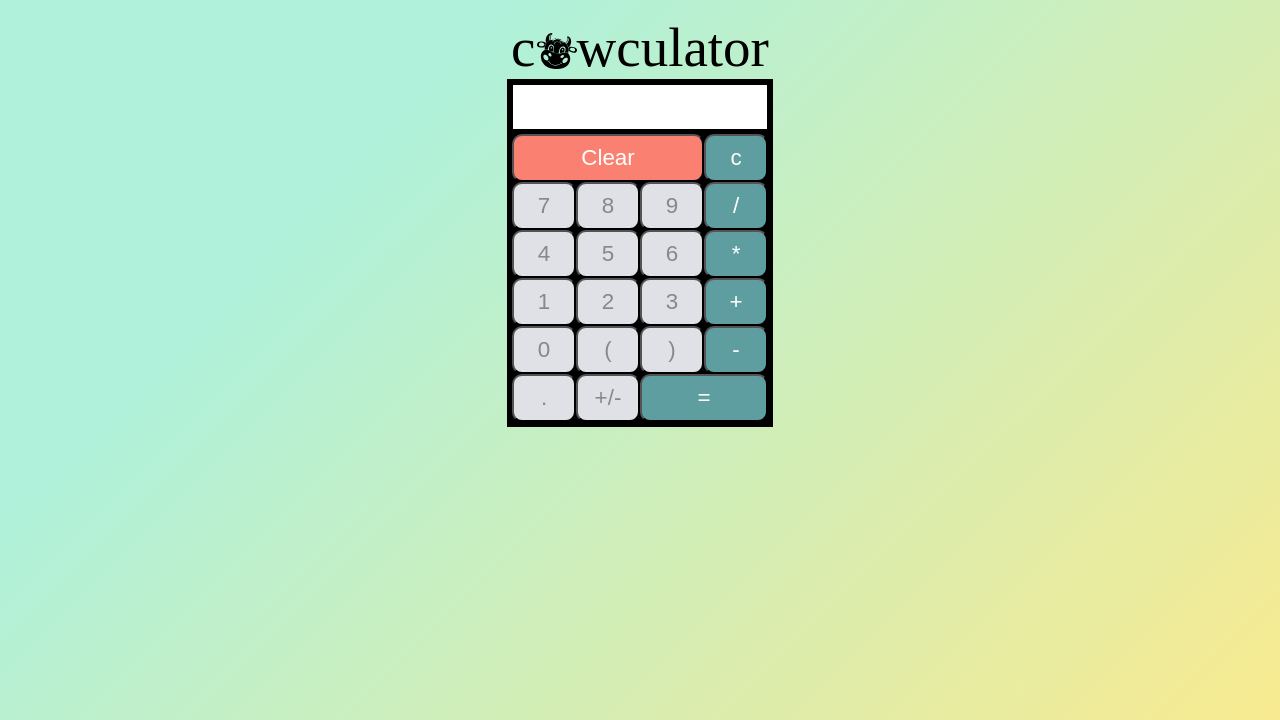
Test: Calculator › should be able to divide whole numbers
Click the button named "1" at (544, 302), box [512,278,576,326]
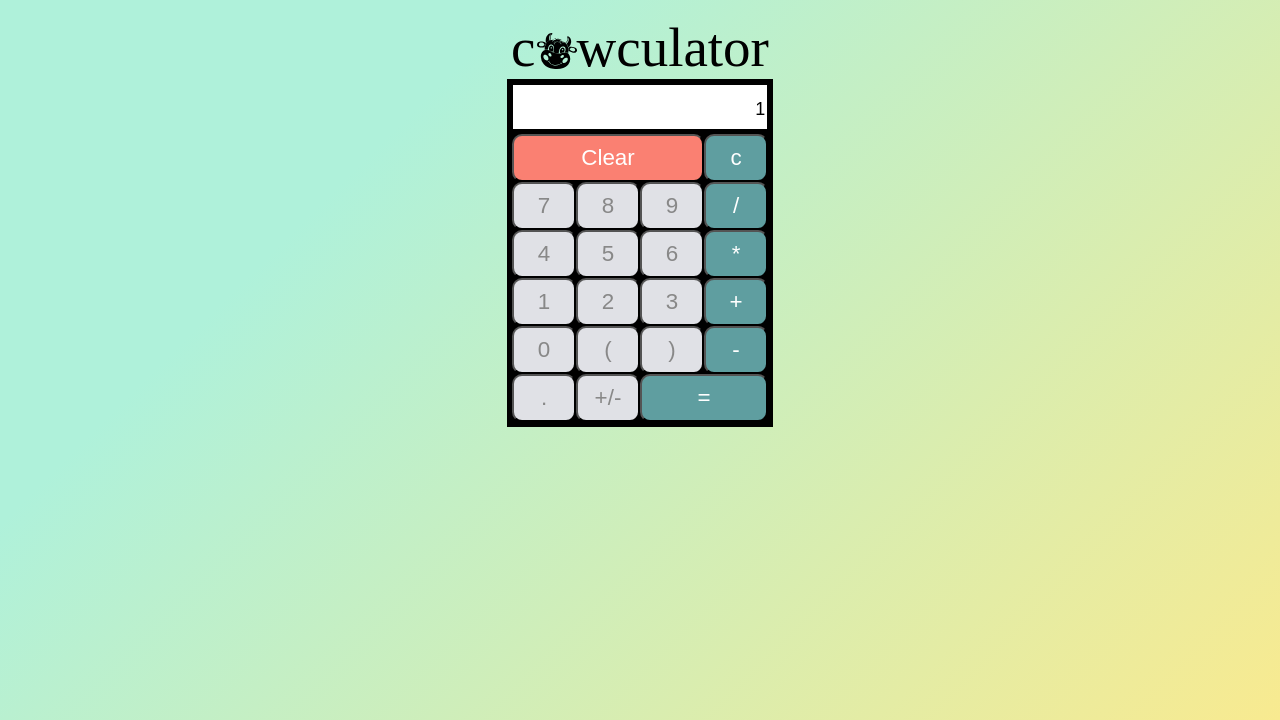
Click the button named "0" at (544, 350), box [512,326,576,374]
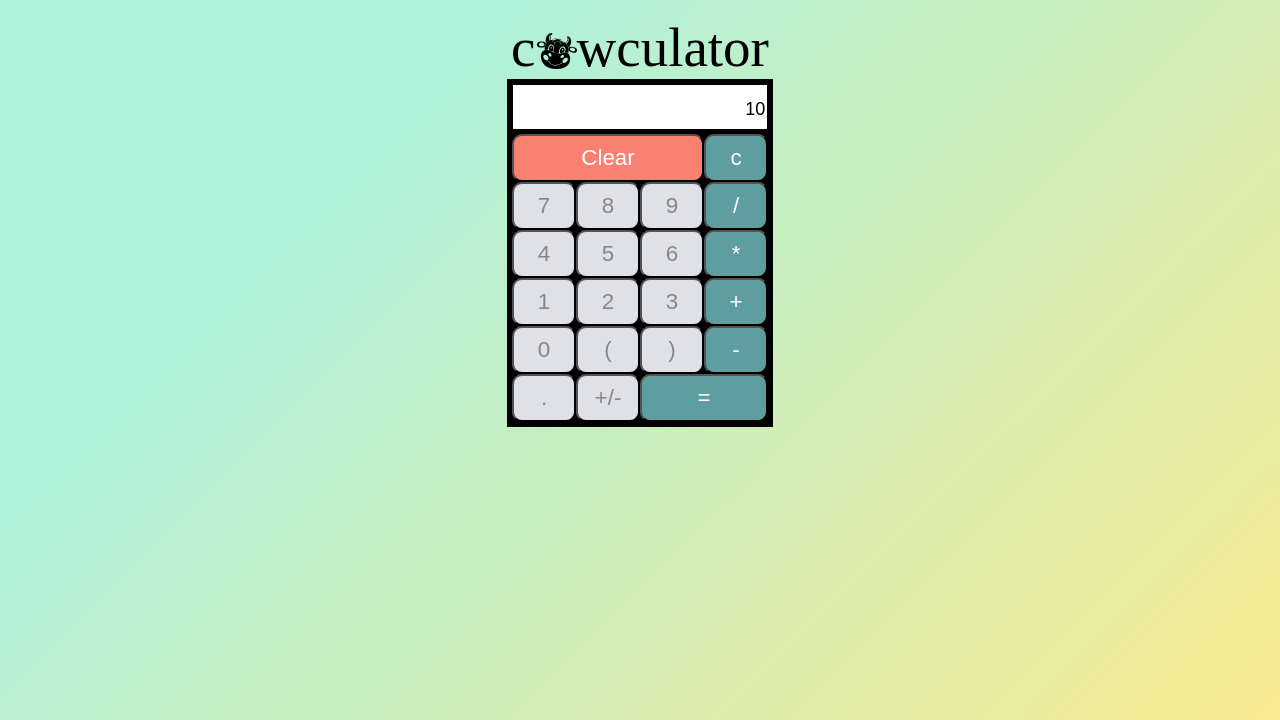
Click the button named "/" at (736, 206), box [704,182,768,230]
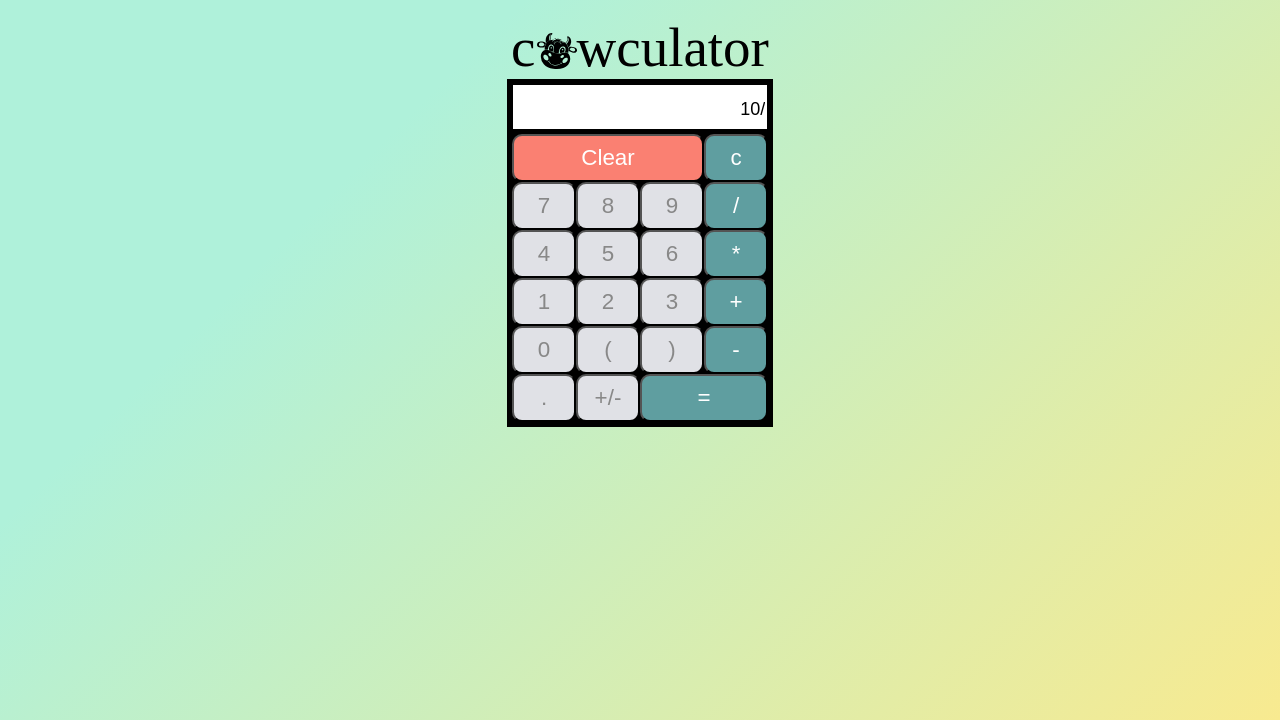
Click the button named "2" at (608, 302), box [576,278,640,326]
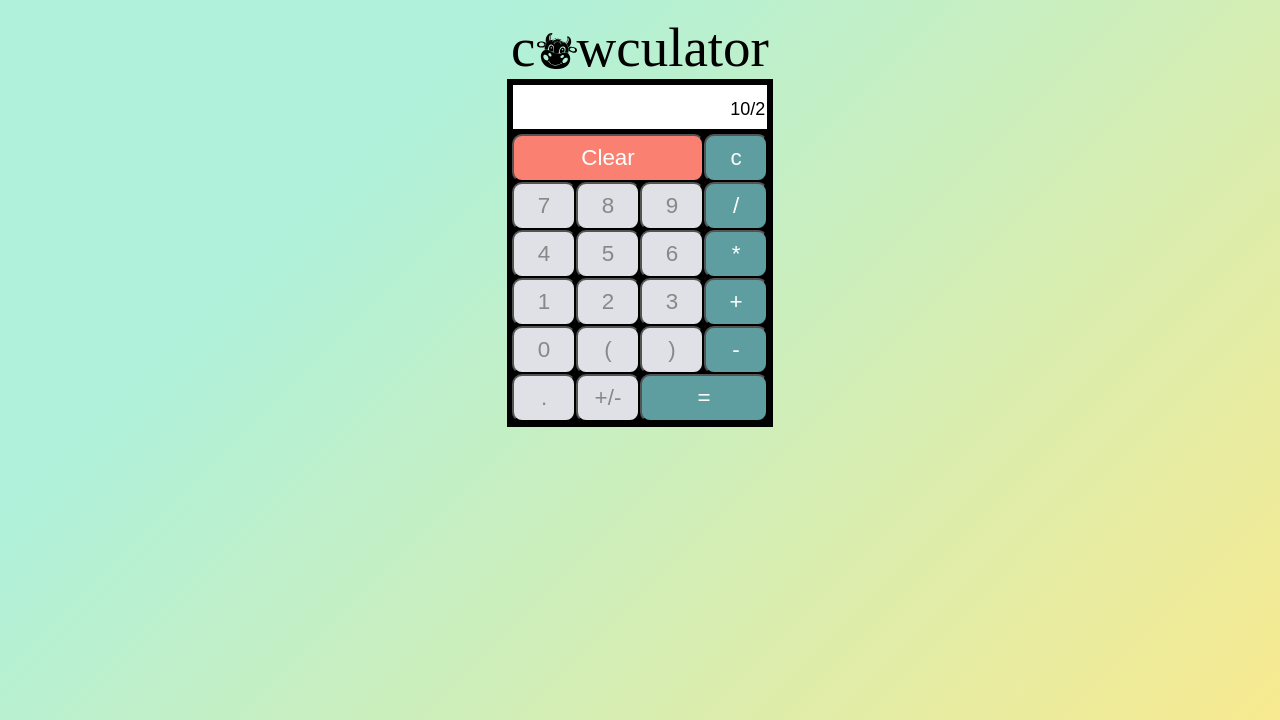
Click the button named "=" at (704, 398), box [640,374,768,422]
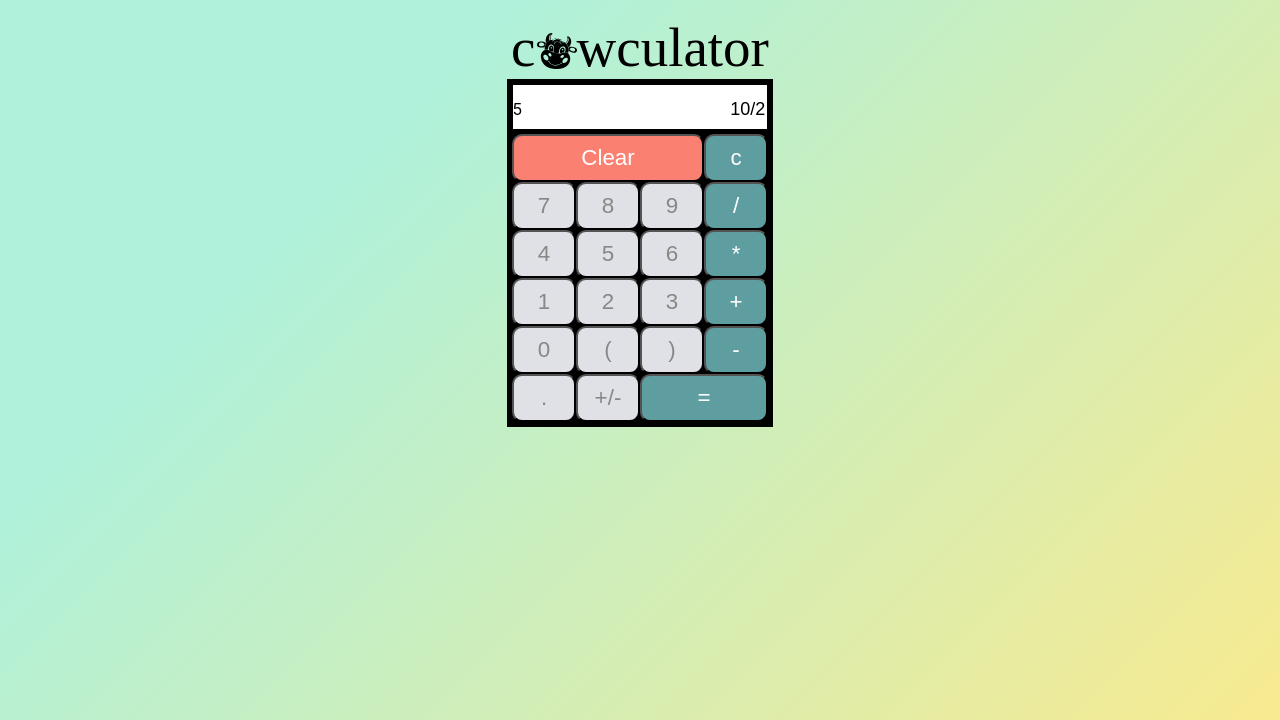
Expected: the text "5" is shown, [513,99,522,119]
